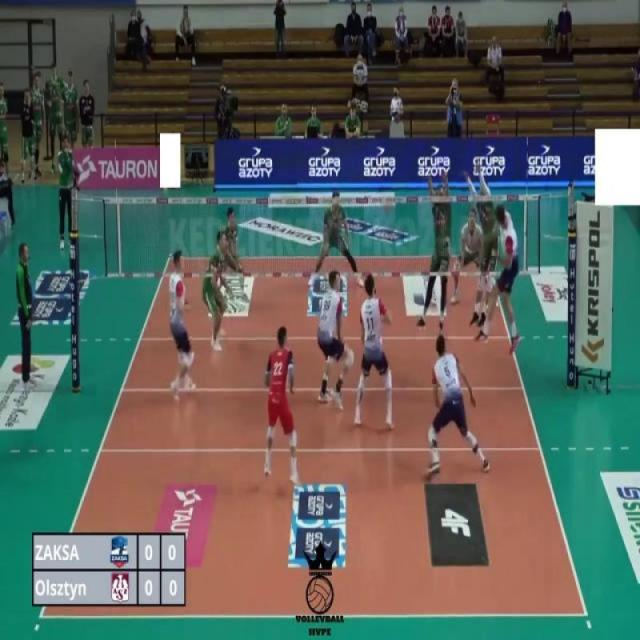volleyball: (383, 202, 392, 214)
